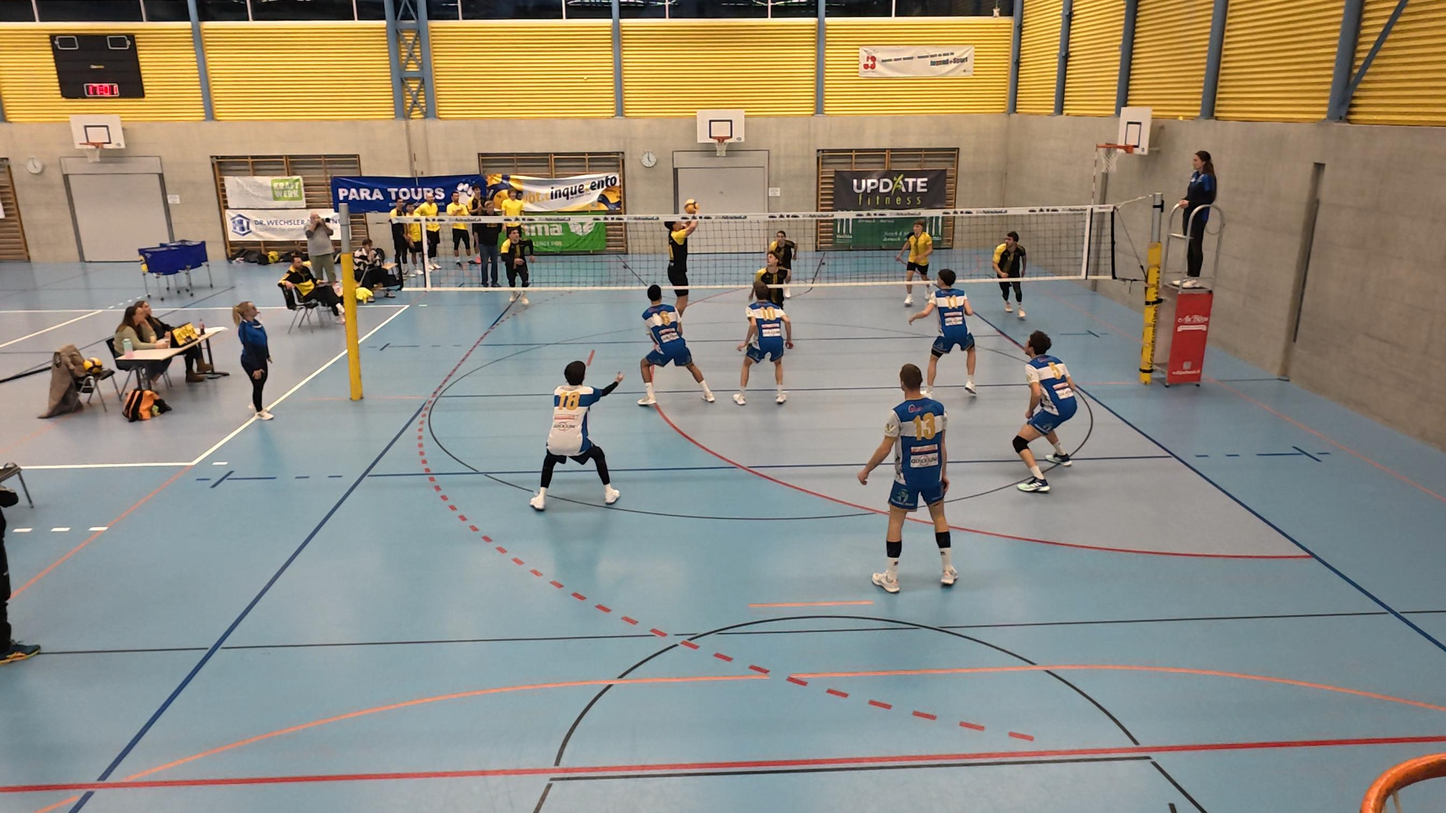Player: (860, 362, 955, 591), (530, 359, 621, 512), (1010, 331, 1088, 494), (637, 284, 717, 407), (920, 271, 982, 399), (734, 281, 795, 405), (991, 230, 1028, 330), (900, 222, 933, 314), (742, 250, 793, 308), (498, 220, 531, 306), (769, 225, 799, 297)
Set: (662, 202, 701, 326)
ball: (685, 201, 701, 215)
